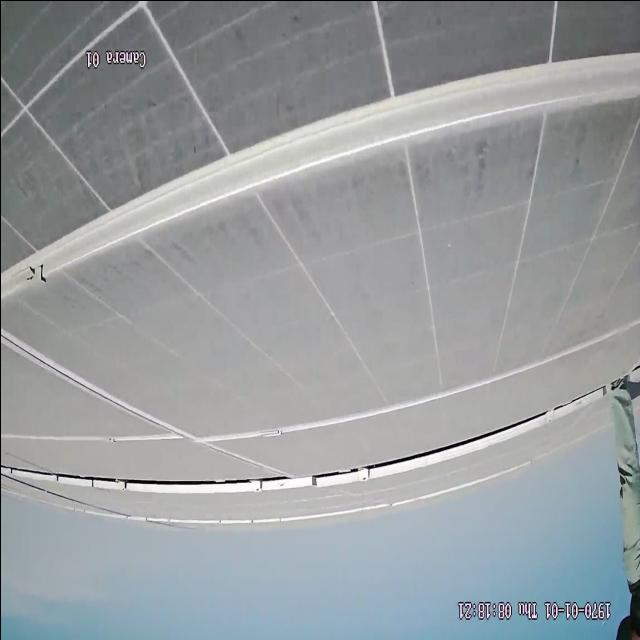interior panel: (2, 48, 639, 478)
